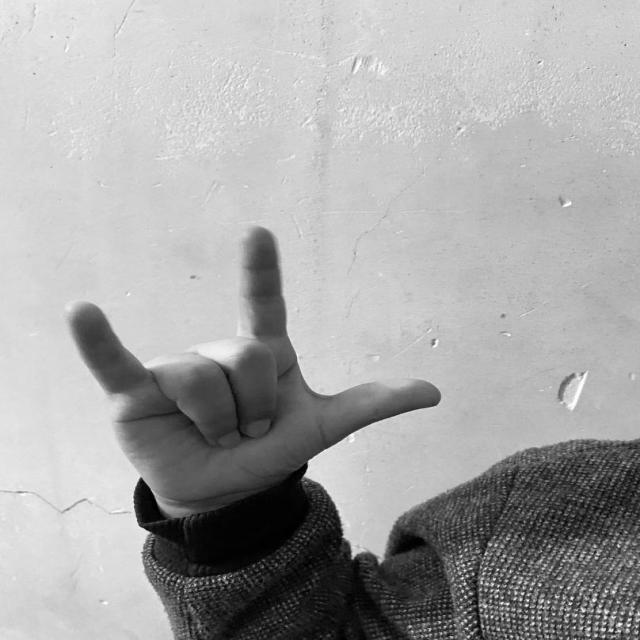i love you: (52, 216, 453, 523)
